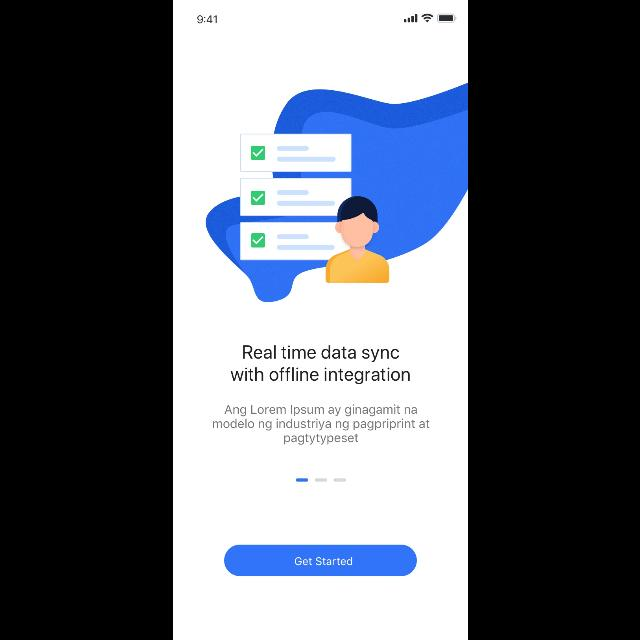image: (239, 134, 389, 284)
pageindicator: (294, 478, 346, 482)
text: (212, 404, 430, 446), (230, 346, 410, 384)
textbutton: (224, 544, 416, 576)
uppertaskbar: (196, 13, 456, 24)
